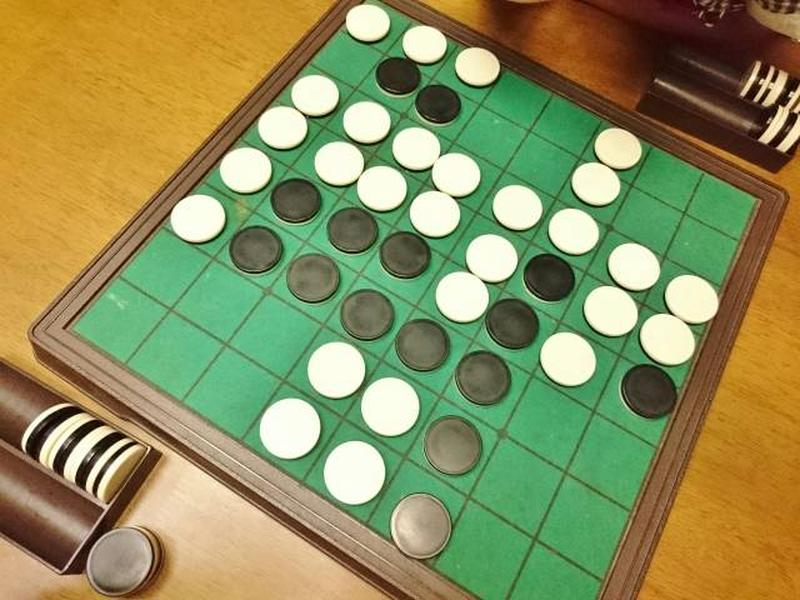black: (445, 339, 533, 423), (418, 407, 490, 487), (615, 351, 687, 430), (519, 248, 591, 317), (326, 281, 396, 347), (263, 170, 327, 230), (320, 201, 380, 256), (410, 80, 471, 133), (372, 52, 427, 101)
white: (292, 329, 377, 403), (349, 368, 428, 444), (596, 234, 676, 297), (343, 161, 423, 218), (398, 186, 471, 243), (487, 179, 551, 241), (584, 119, 652, 177), (421, 146, 490, 202), (335, 96, 400, 153), (429, 264, 486, 324)
